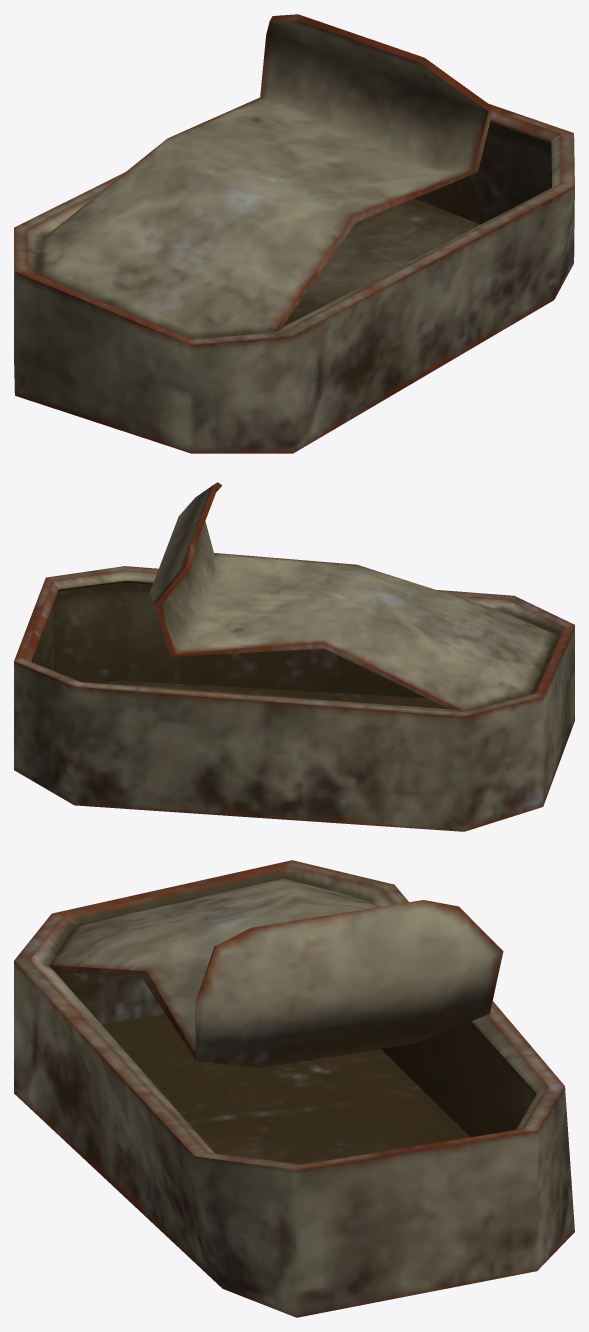
Rendered from can3.fbx.
3 renders of one model, top to bottom at view 1: azimuth 30°, elevation 25°; view 2: azimuth 150°, elevation 25°; view 3: azimuth 270°, elevation 25°, orthographic. The views are drawn at different scales.
Visible parts, largest first — view 1: Can_02_GEO; view 2: Can_02_GEO; view 3: Can_02_GEO.
Boxes of the visible parts, bbox=[...] form: Can_02_GEO: bbox=[14, 14, 574, 453]; Can_02_GEO: bbox=[14, 482, 574, 831]; Can_02_GEO: bbox=[14, 860, 574, 1317].
Bounding box in the file's own units: 11.36 × 5.06 × 8.68.
Materials: 1 (1 with a texture image).
